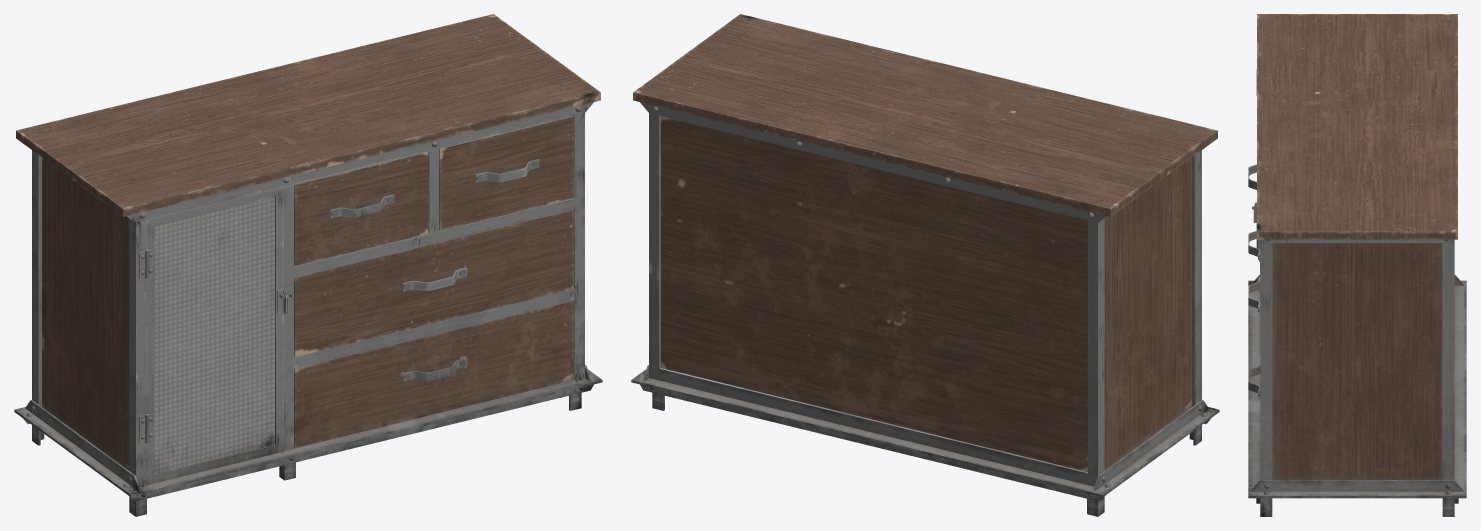
The model's file is WoodenTable_03.glb.
3 renders of one model, left to right at view 1: azimuth 30°, elevation 25°; view 2: azimuth 150°, elevation 25°; view 3: azimuth 270°, elevation 25°, orthographic. The views are drawn at different scales.
Visible parts, largest first — view 1: WoodenTable_03_body, WoodenTable_03_door, WoodenTable_03_drawer03, WoodenTable_03_drawer04, WoodenTable_03_drawer02, WoodenTable_03_drawer01; view 2: WoodenTable_03_body; view 3: WoodenTable_03_body.
Boxes of the visible parts, box(x1,y1,x2,y2) form: WoodenTable_03_body: box(14, 14, 602, 516); WoodenTable_03_door: box(145, 186, 292, 485); WoodenTable_03_drawer03: box(294, 209, 574, 357); WoodenTable_03_drawer04: box(294, 300, 574, 448); WoodenTable_03_drawer02: box(439, 116, 574, 230); WoodenTable_03_drawer01: box(294, 151, 428, 266); WoodenTable_03_body: box(631, 14, 1219, 516); WoodenTable_03_body: box(1248, 14, 1466, 516).
Size of the model in its own units: 1.33 by 0.8301 by 0.5617.
1 material, 1 textured.
